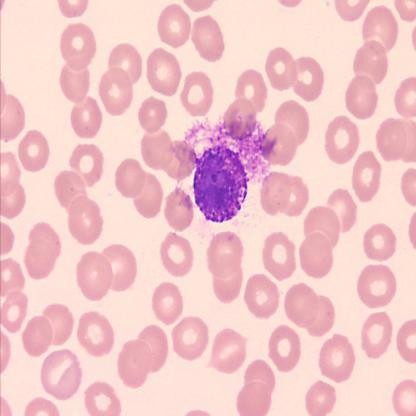Basophil: (191, 143, 252, 226)
